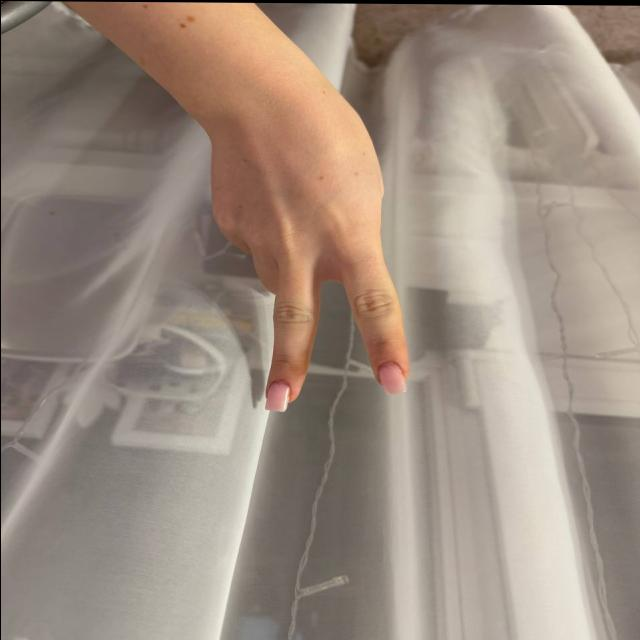l: (182, 121, 429, 420)
